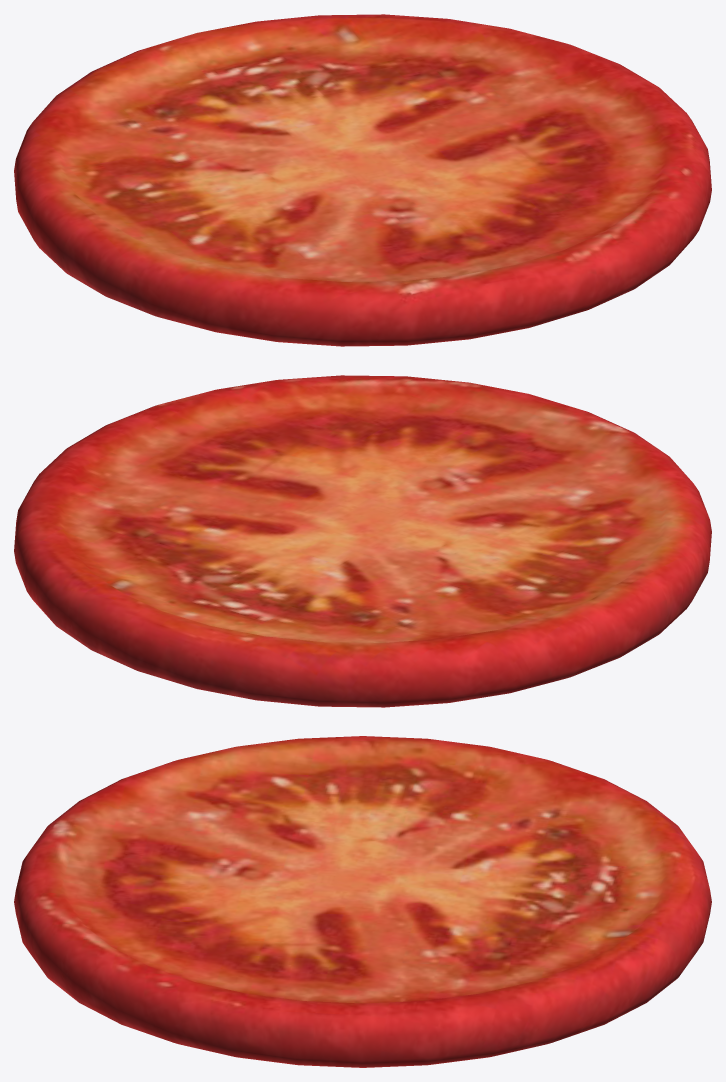
Rendered from Tommato.fbx.
3 views of the same model, one above another, from view 1: azimuth 30°, elevation 25°; view 2: azimuth 150°, elevation 25°; view 3: azimuth 270°, elevation 25° (orthographic).
Visible parts, largest first — view 1: Tomato; view 2: Tomato; view 3: Tomato.
Boxes of the visible parts, left/top/right/bottom form: Tomato: left=14, top=14, right=711, bottom=346; Tomato: left=14, top=375, right=711, bottom=707; Tomato: left=14, top=736, right=711, bottom=1067.
Bounding box in the file's own units: 7.93 × 0.6948 × 7.93.
1 material, 1 textured.
